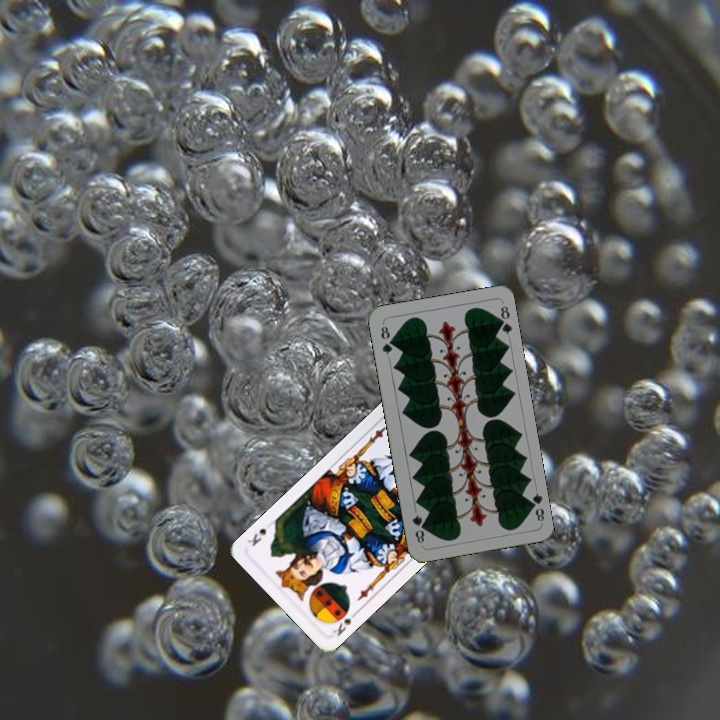G8: (524, 489, 547, 524), (377, 322, 395, 357)
SK: (328, 603, 361, 639)
